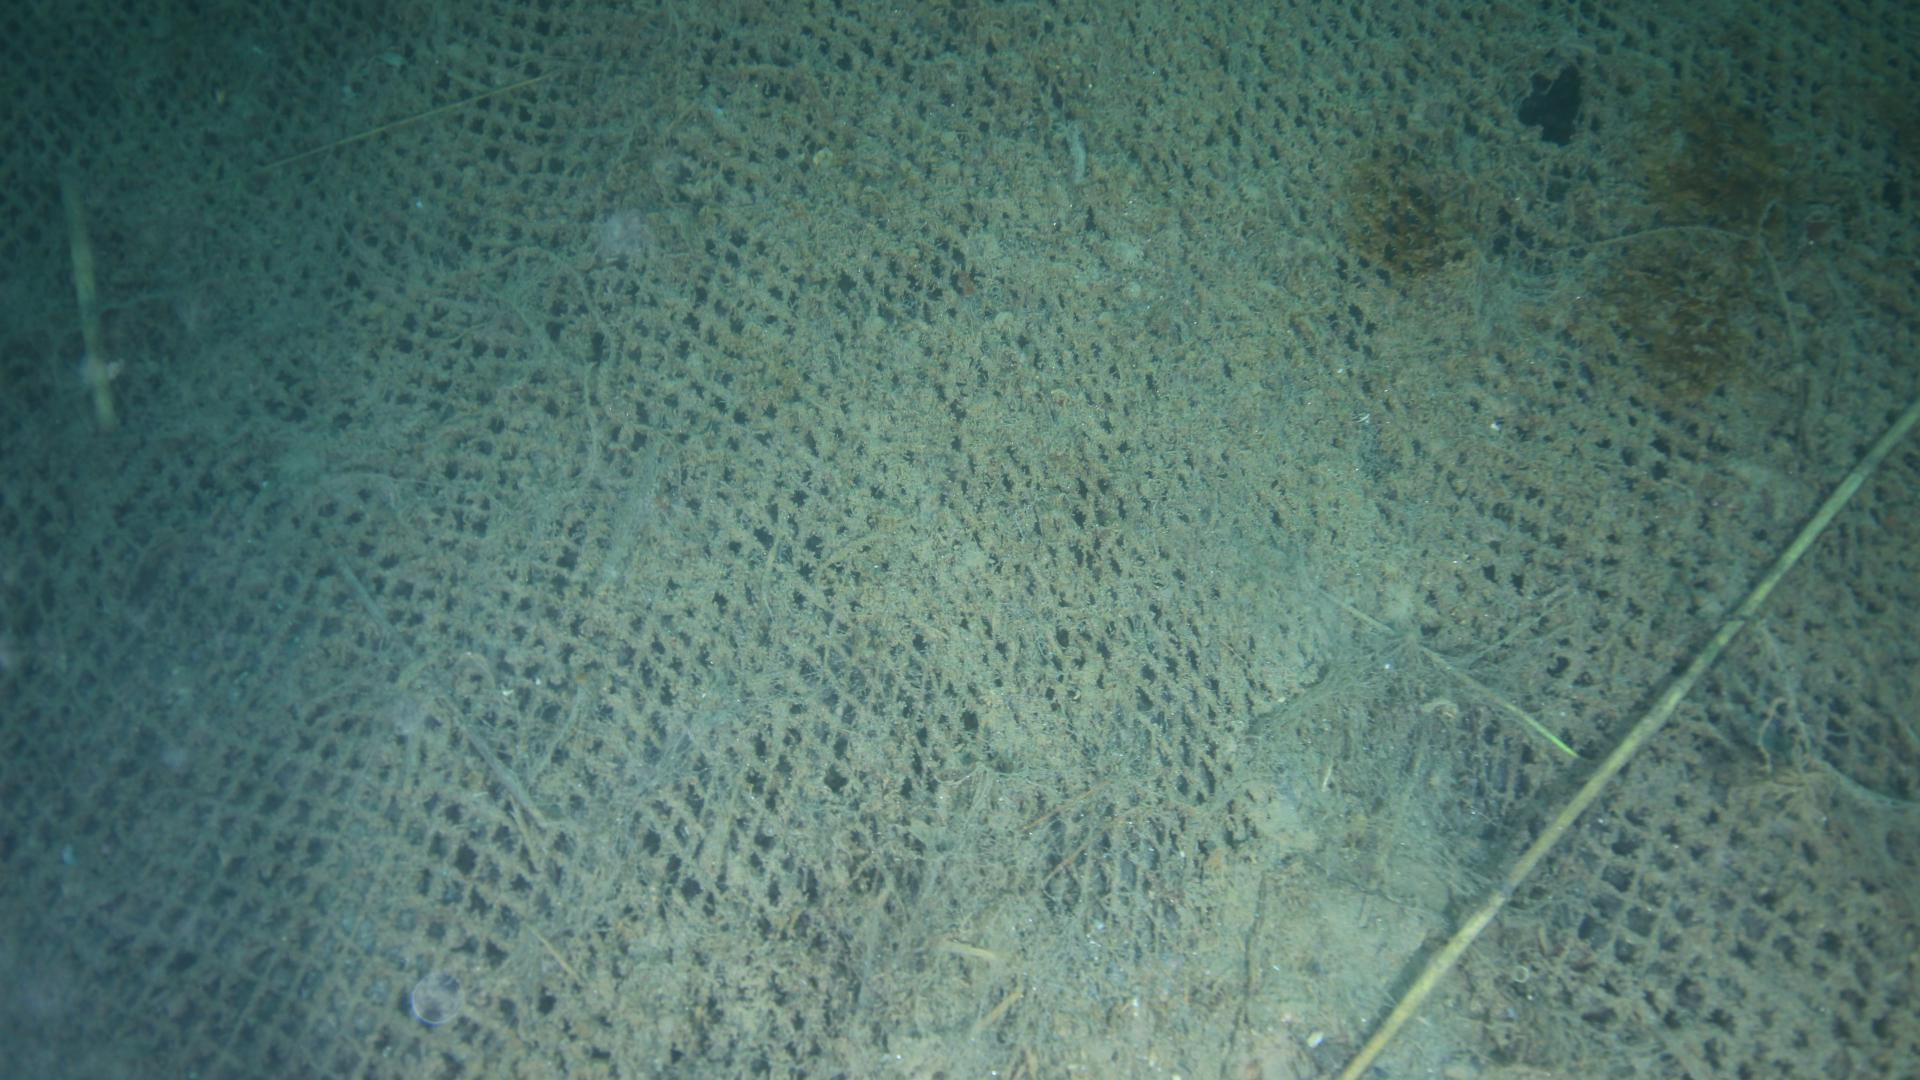fish net: (0, 0, 1920, 1080)
